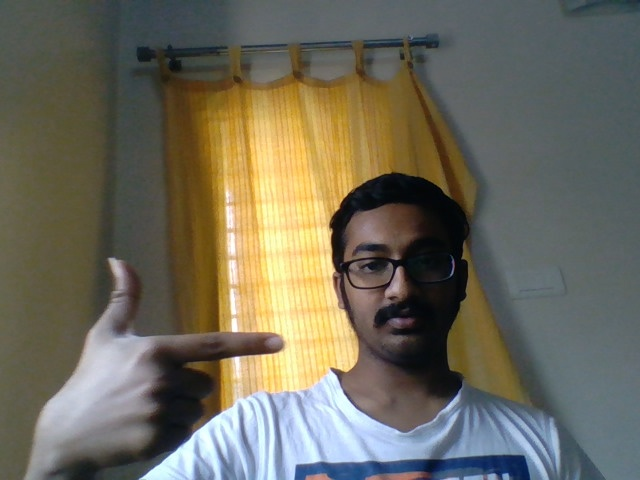yes: (28, 246, 299, 471)
